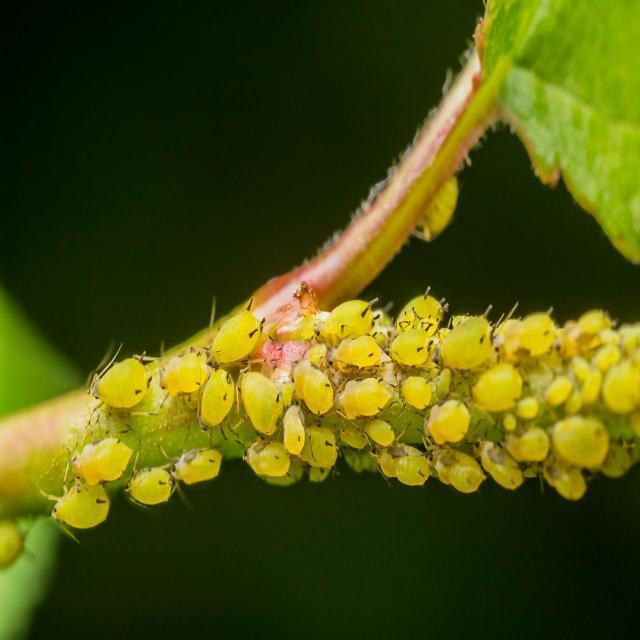Aphids: (79, 344, 153, 418), (60, 426, 137, 494), (146, 331, 216, 404), (42, 481, 116, 540), (307, 295, 390, 343), (127, 461, 182, 533), (171, 436, 231, 499), (237, 357, 286, 434), (197, 315, 268, 366), (397, 283, 448, 349), (241, 435, 299, 490), (340, 367, 395, 424), (194, 365, 235, 440), (322, 335, 390, 379), (293, 351, 334, 423), (382, 444, 434, 495), (425, 401, 472, 453), (389, 328, 440, 375), (274, 400, 312, 461), (299, 435, 345, 482), (395, 372, 442, 417)
